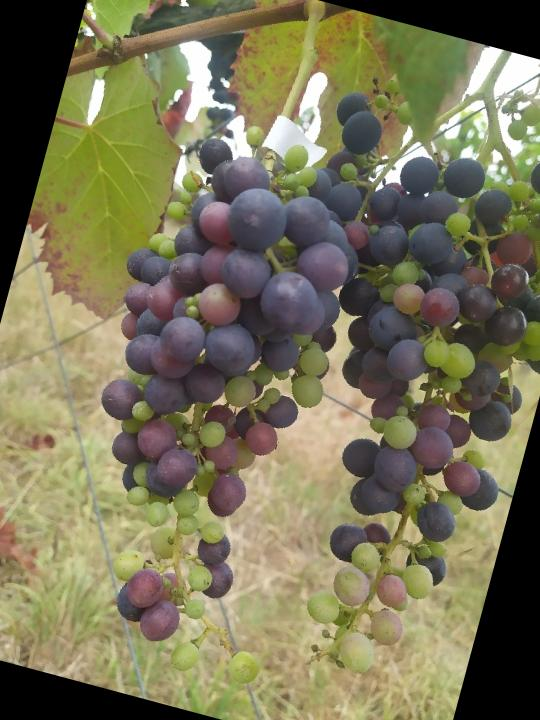grape: (196, 57, 540, 703), (26, 102, 399, 693)
